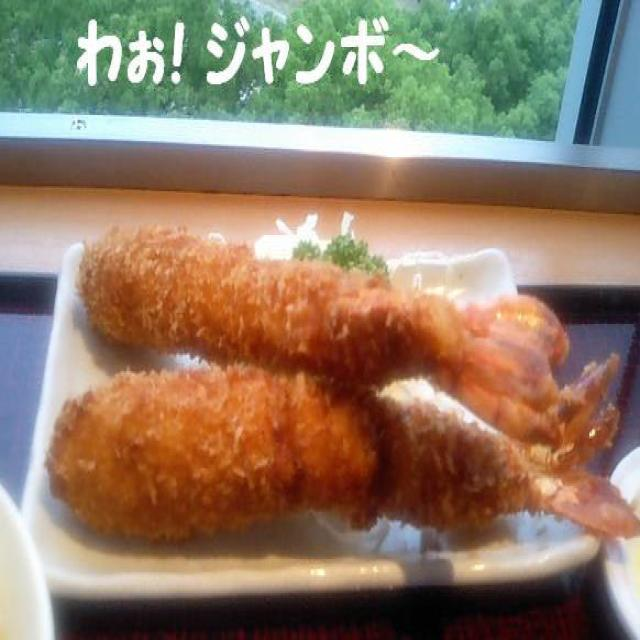炸货点心: (29, 178, 640, 599)
熟制海鲜: (29, 178, 640, 599)
